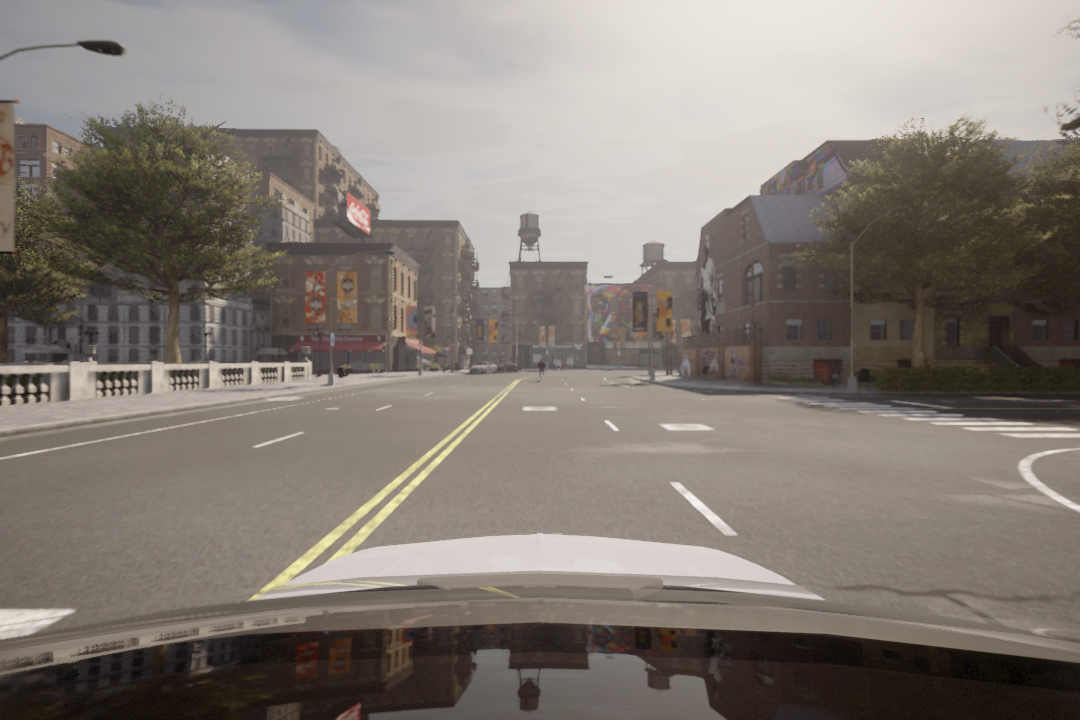walkside: (769, 393, 1080, 446)
